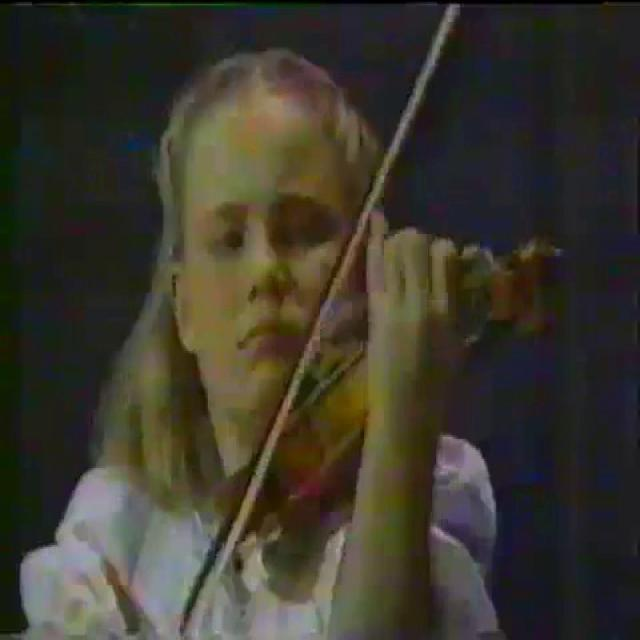Violin: (198, 219, 567, 577)
